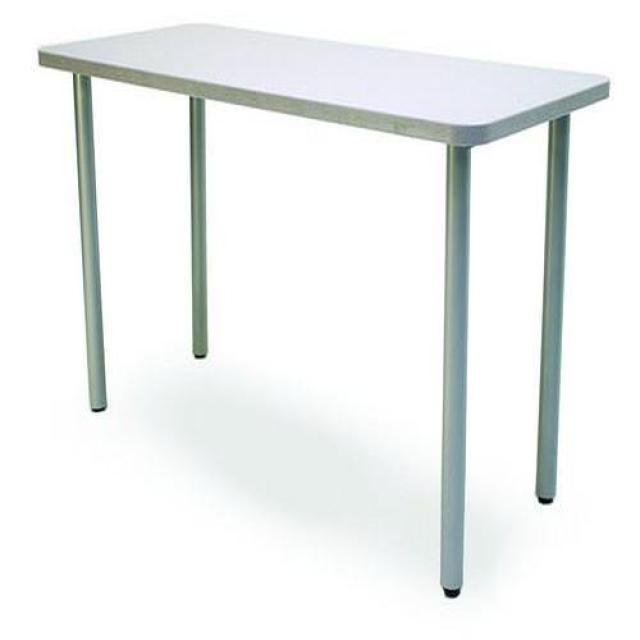table: (38, 23, 614, 600)
